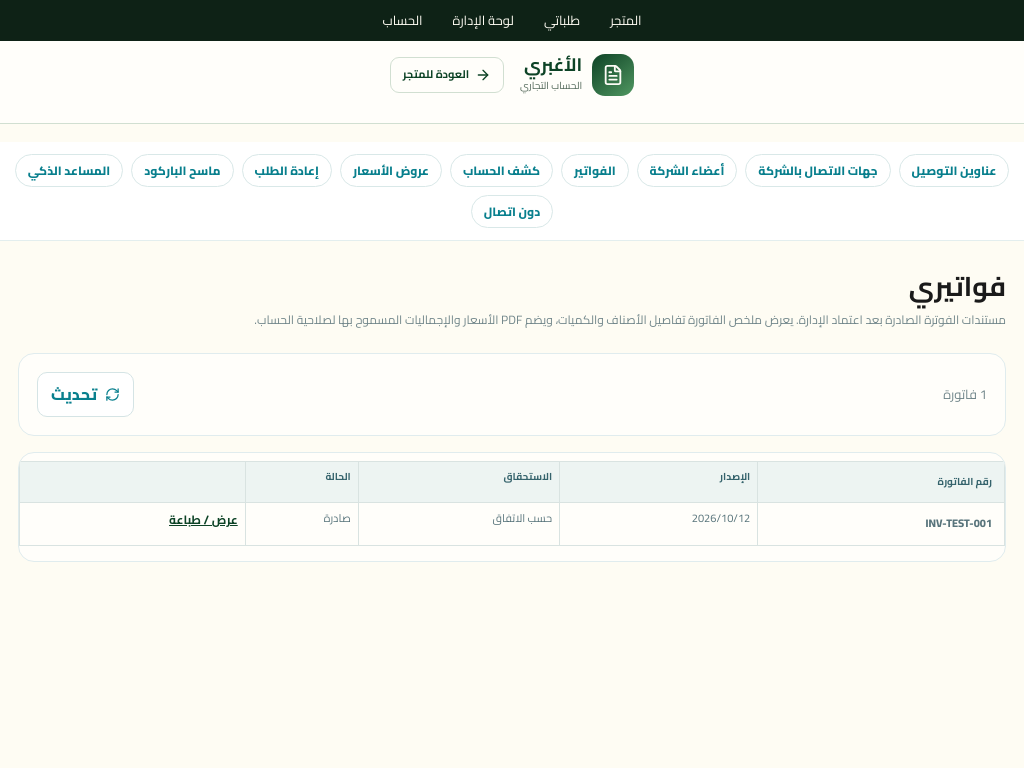
Test case: customer invoices real route acceptance › renders a server-approved hidden-finance invoice only when the payload omits protected fields
Click the button "عرض / طباعة" at (203,520), box left=169, top=510, right=238, bottom=530
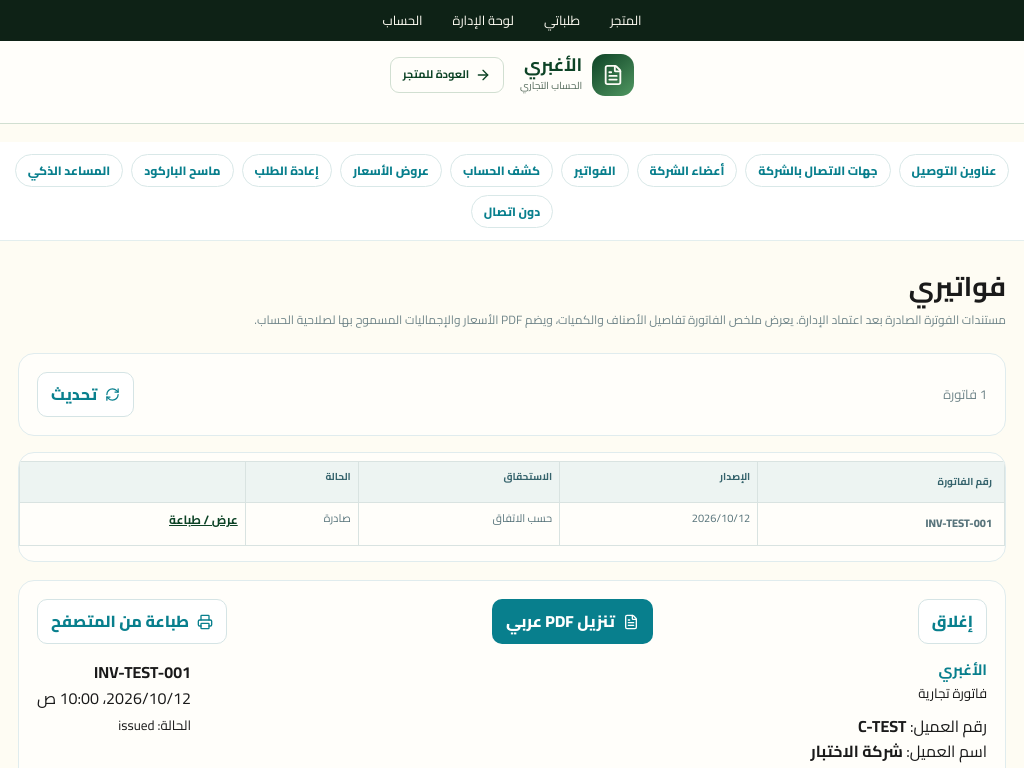
Check: the text "شركة الاختبار" is shown, box left=811, top=736, right=903, bottom=766
